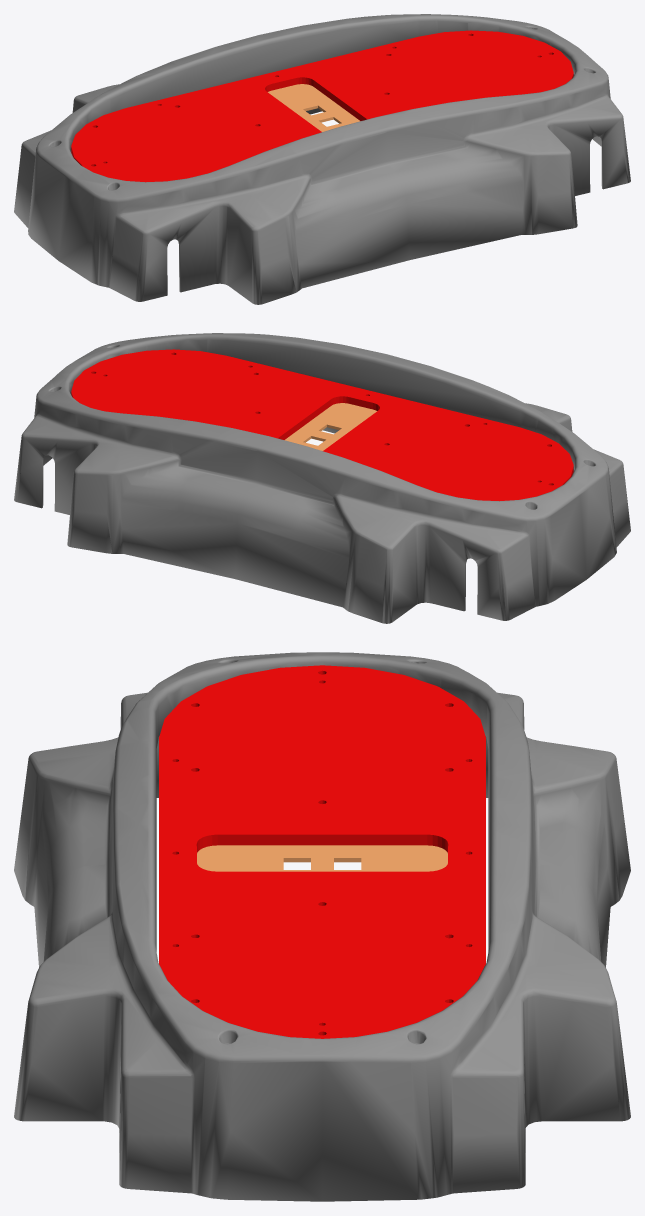
The model's file is target.dae.
The picture shows the model from 3 angles, top to bottom: view 1: azimuth 30°, elevation 25°; view 2: azimuth 150°, elevation 25°; view 3: azimuth 270°, elevation 25°; orthographic projection. The views are drawn at different scales.
Parts seen in each view (by area): view 1: Frame_004; view 2: Frame_004; view 3: Frame_004.
Part boxes in pixels (x1,y1,x2,y2): Frame_004: (14,14,630,304); Frame_004: (14,333,630,623); Frame_004: (14,652,630,1201).
Bounding box in the file's own units: 0.5701 × 0.3571 × 0.122.
